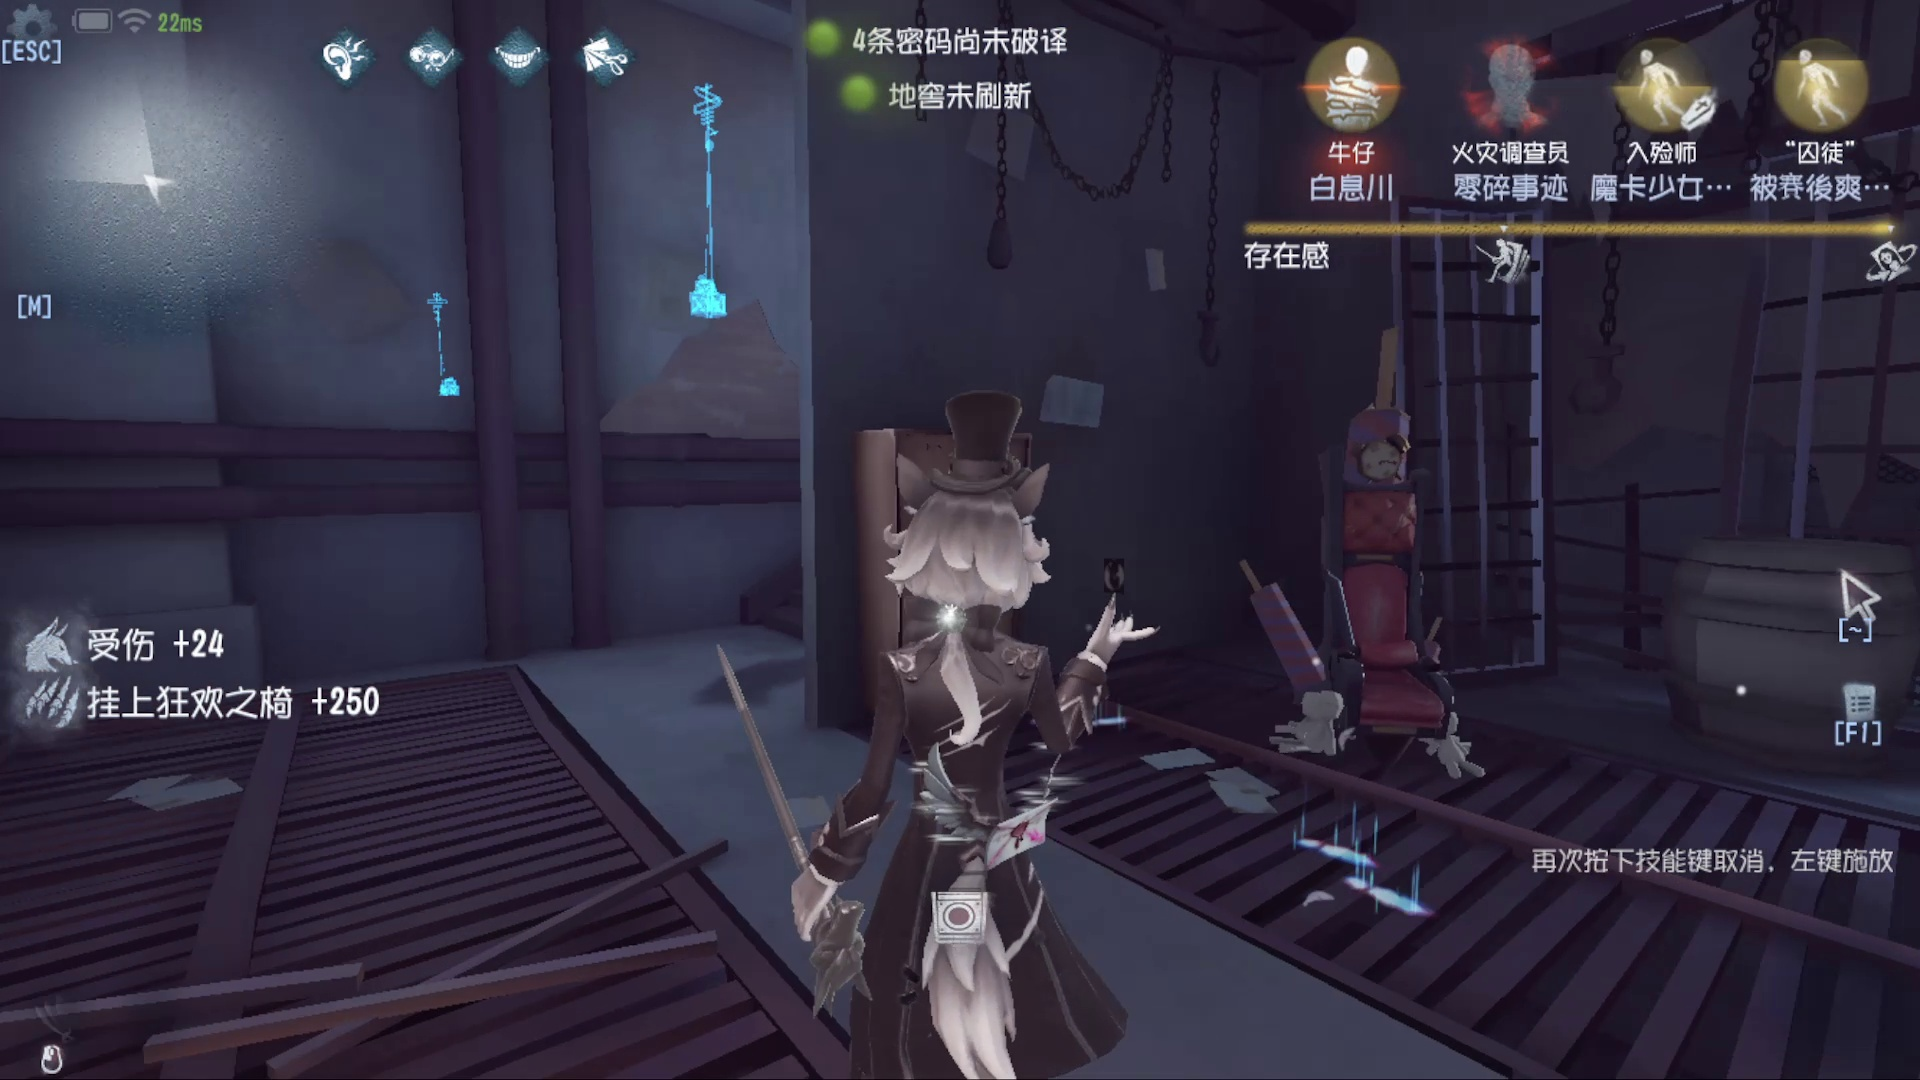狂欢之椅: (1280, 320, 1493, 806), (641, 65, 777, 349), (390, 266, 487, 423)
